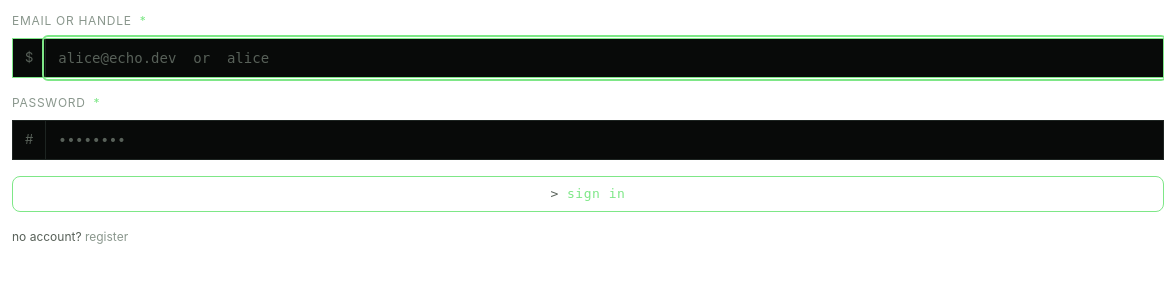
Scenario: LoginForm › shows zod error for short password
Type "alice@echo.dev" into the field labelled "email or handle *" at [605, 58], box [46,39,1163,77]
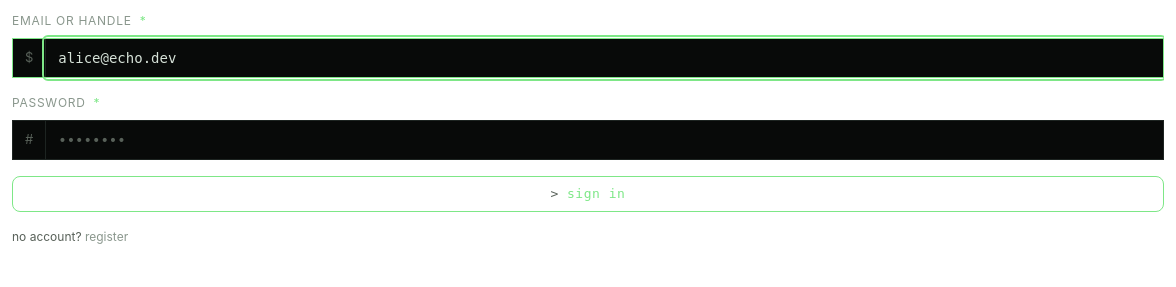
Type "short" into the password field labelled "password *" at [605, 140], box [46,121,1163,159]
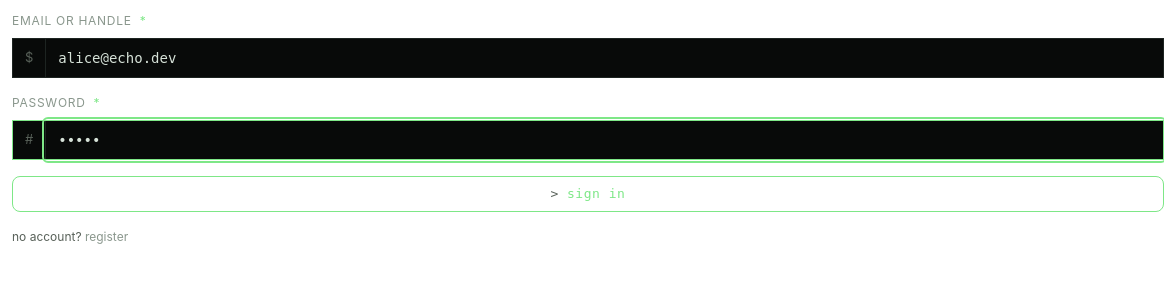
Click the button "> sign in" at [588, 194], box [12,176,1164,212]
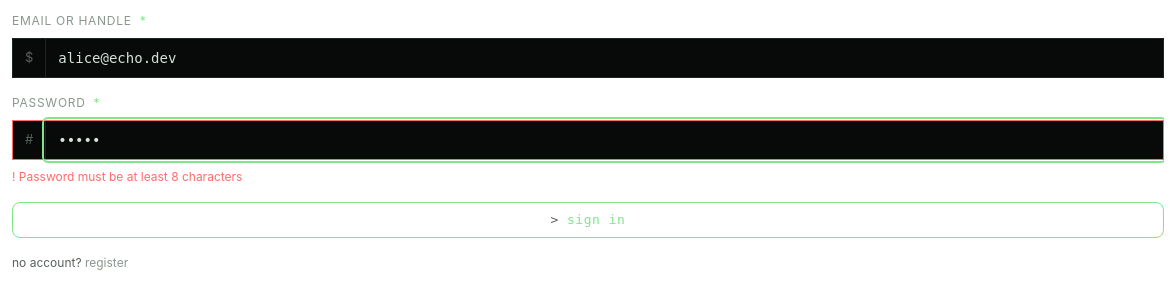
Expected: the text "Password must be at least 8 characters" is shown, [19,169,242,184]
